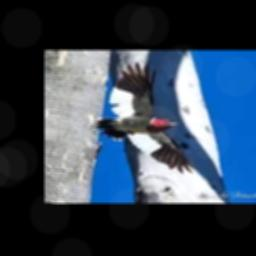Woodpecker: (87, 62, 193, 173)
